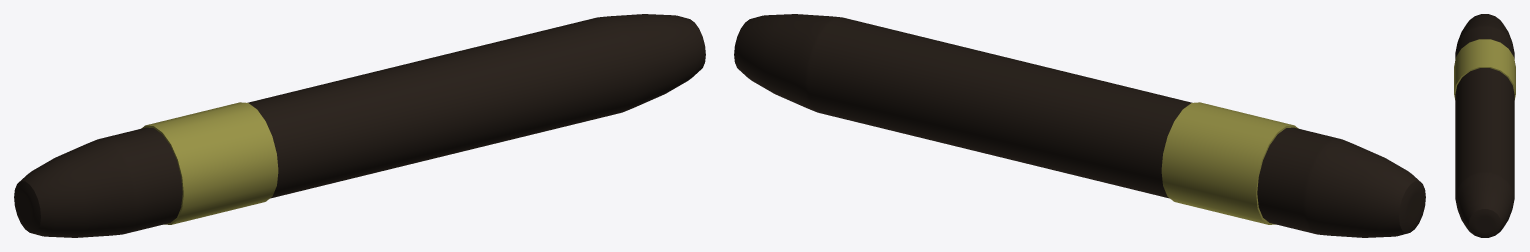
The model's file is Zigarette.obj.
3 renders of one model, left to right at view 1: azimuth 30°, elevation 25°; view 2: azimuth 150°, elevation 25°; view 3: azimuth 270°, elevation 25°, orthographic. The views are drawn at different scales.
Parts seen in each view (by area): view 1: Object001, Cylinder003; view 2: Object001, Cylinder003; view 3: Object001, Cylinder003.
Part boxes in pixels (x1=…): Object001: x1=14, y1=14, x2=705, y2=237; Cylinder003: x1=141, y1=102, x2=278, y2=224; Object001: x1=734, y1=14, x2=1425, y2=237; Cylinder003: x1=1161, y1=102, x2=1298, y2=224; Object001: x1=1455, y1=14, x2=1514, y2=237; Cylinder003: x1=1454, y1=39, x2=1515, y2=99.
Bounding box in the file's own units: 6.97 × 0.9117 × 0.9259.
